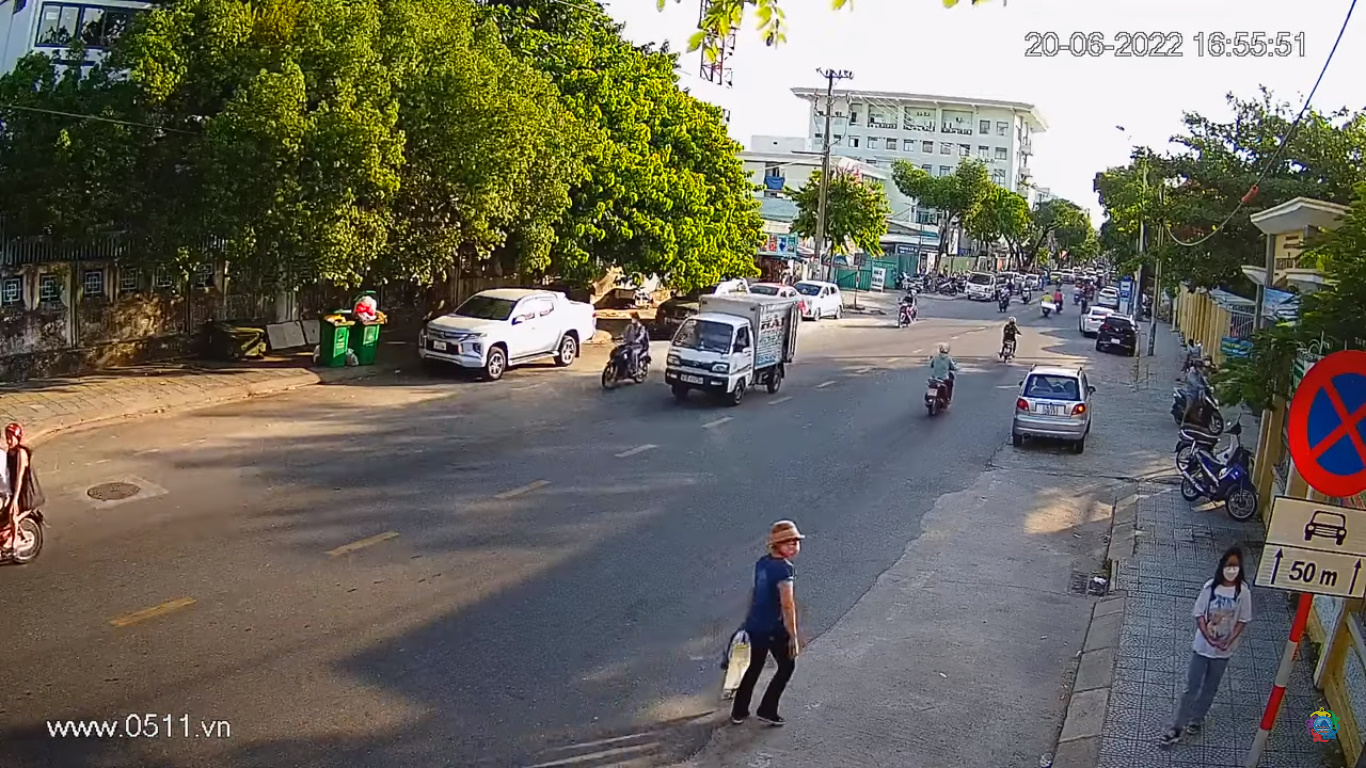truck: (667, 292, 803, 397)
